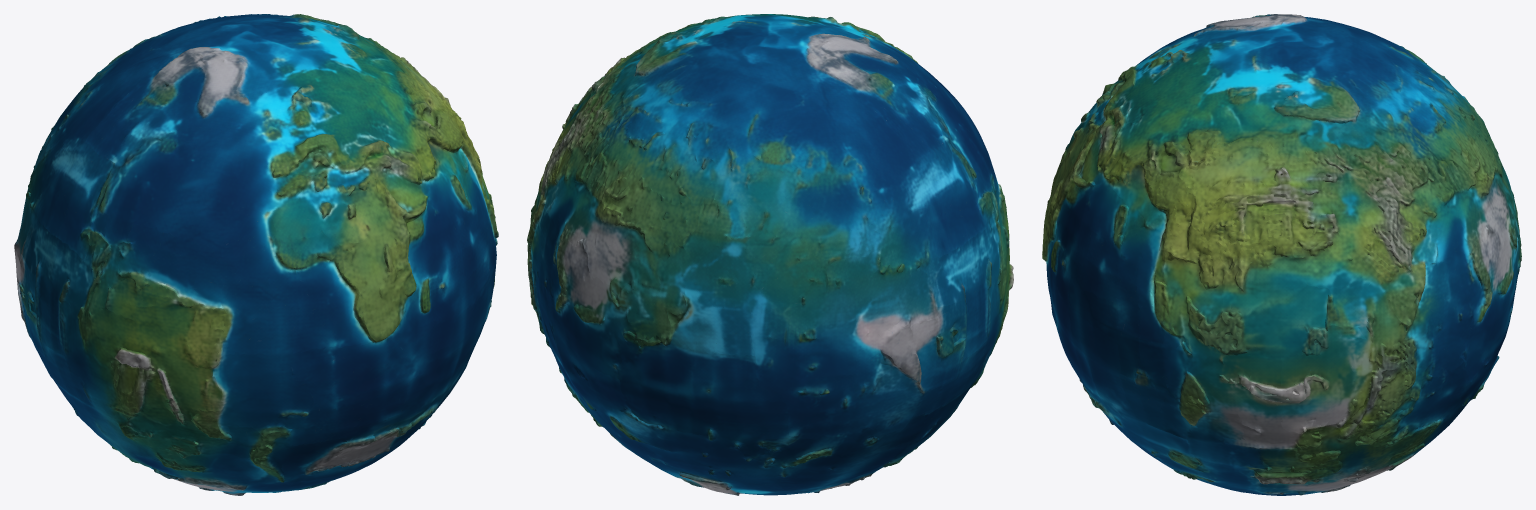
The picture shows the model from 3 angles, left to right: view 1: azimuth 30°, elevation 25°; view 2: azimuth 150°, elevation 25°; view 3: azimuth 270°, elevation 25°; orthographic projection.
Visible parts, largest first — view 1: world; view 2: world; view 3: world.
Boxes of the visible parts, x1,y1,x2,y2 form: world: [14, 14, 498, 495]; world: [527, 14, 1013, 495]; world: [1042, 14, 1521, 495].
Size of the model in its own units: 1 by 0.9973 by 1.
1 material, 1 textured.
